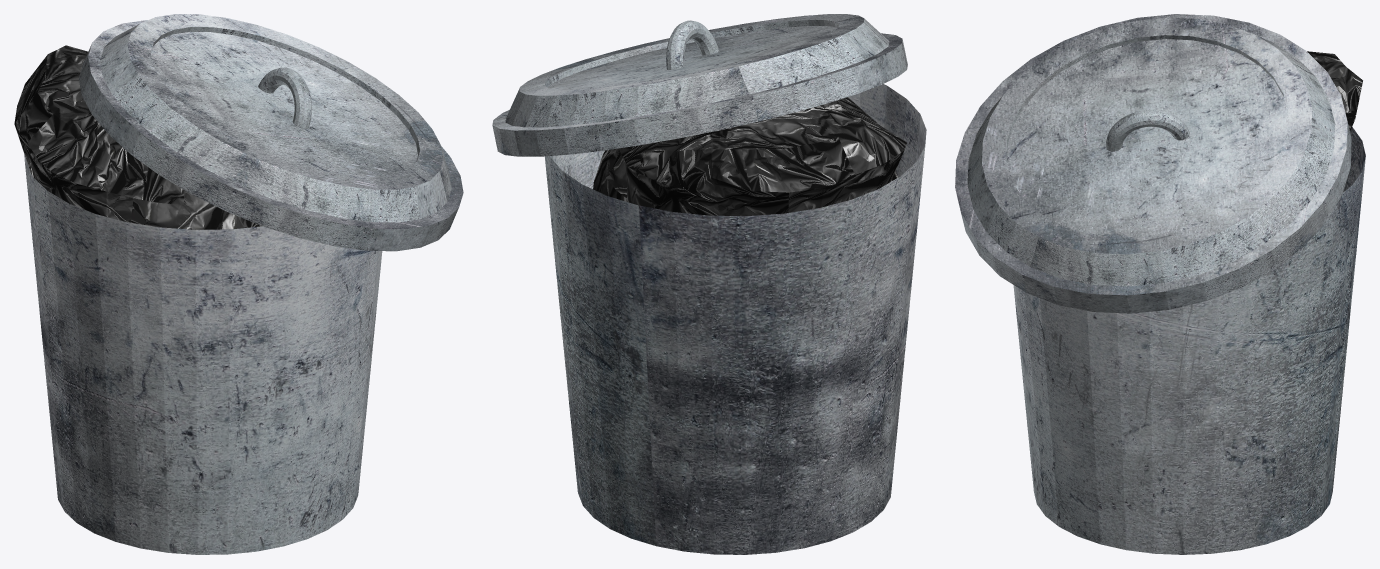
File: lixo2.gltf
3 renders of one model, left to right at view 1: azimuth 30°, elevation 25°; view 2: azimuth 150°, elevation 25°; view 3: azimuth 270°, elevation 25°, orthographic. The views are drawn at different scales.
Visible parts, largest first — view 1: Cylinder.003, Cylinder.002, Sphere; view 2: Cylinder.003, Cylinder.002, Sphere; view 3: Cylinder.002, Cylinder.003, Sphere.
Boxes of the visible parts, left/top/right/bottom form: Cylinder.003: left=24, top=154, right=382, bottom=554; Cylinder.002: left=78, top=14, right=463, bottom=251; Sphere: left=14, top=45, right=261, bottom=229; Cylinder.003: left=544, top=84, right=926, bottom=554; Cylinder.002: left=492, top=14, right=907, bottom=156; Sphere: left=593, top=97, right=906, bottom=215; Cylinder.002: left=955, top=14, right=1351, bottom=313; Cylinder.003: left=1013, top=127, right=1365, bottom=554; Sphere: left=1307, top=51, right=1362, bottom=130.
Size of the model in its own units: 2.88 by 3.24 by 2.75.
Materials: 2 (2 with a texture image).
